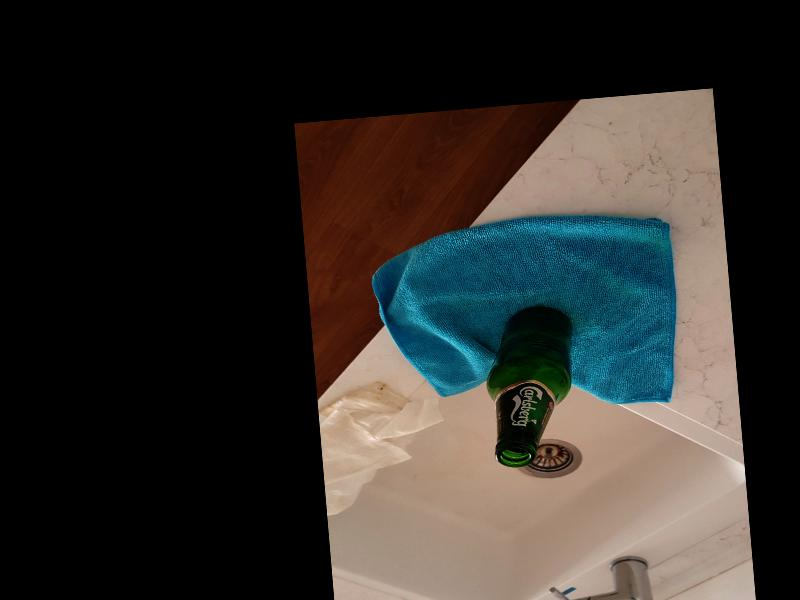Beer: (479, 301, 580, 467)
